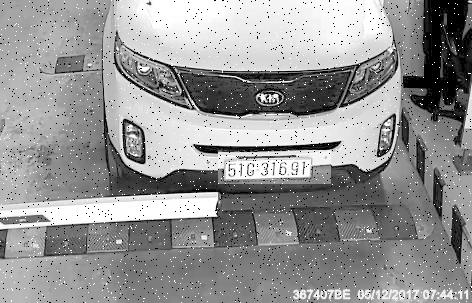License-plate: (220, 152, 334, 187)
